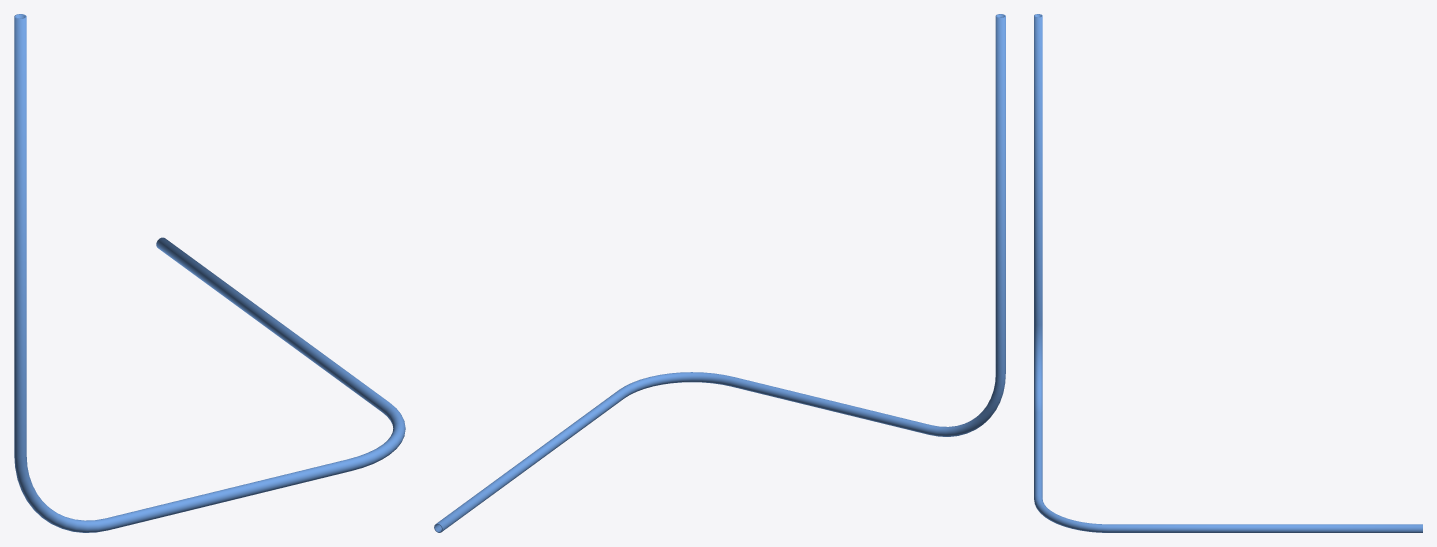
Rendered from pipes_supply__water_heater__8e60832d__r4y.glb.
The picture shows the model from 3 angles, left to right: view 1: azimuth 30°, elevation 25°; view 2: azimuth 150°, elevation 25°; view 3: azimuth 270°, elevation 25°; orthographic projection. The views are drawn at different scales.
Visible parts, largest first — view 1: pipe_supply_cold_riser_tmv_lo_flo_s__pex; view 2: pipe_supply_cold_riser_tmv_lo_flo_s__pex; view 3: pipe_supply_cold_riser_tmv_lo_flo_s__pex.
Part boxes in pixels (x1,y1,x2,y2): pipe_supply_cold_riser_tmv_lo_flo_s__pex: (14,14,405,532); pipe_supply_cold_riser_tmv_lo_flo_s__pex: (434,14,1005,532); pipe_supply_cold_riser_tmv_lo_flo_s__pex: (1034,14,1422,532).
Bounding box in the file's own units: 0.8772 × 1.05 × 0.989.
